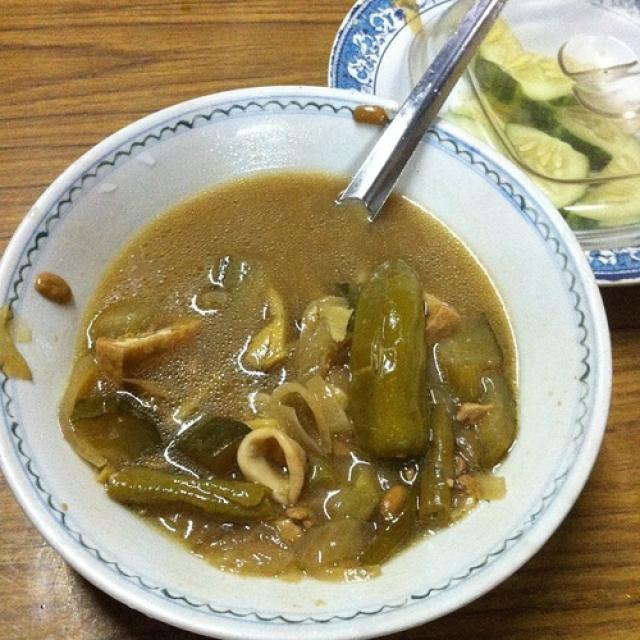熟制海鲜: (15, 119, 617, 616)
